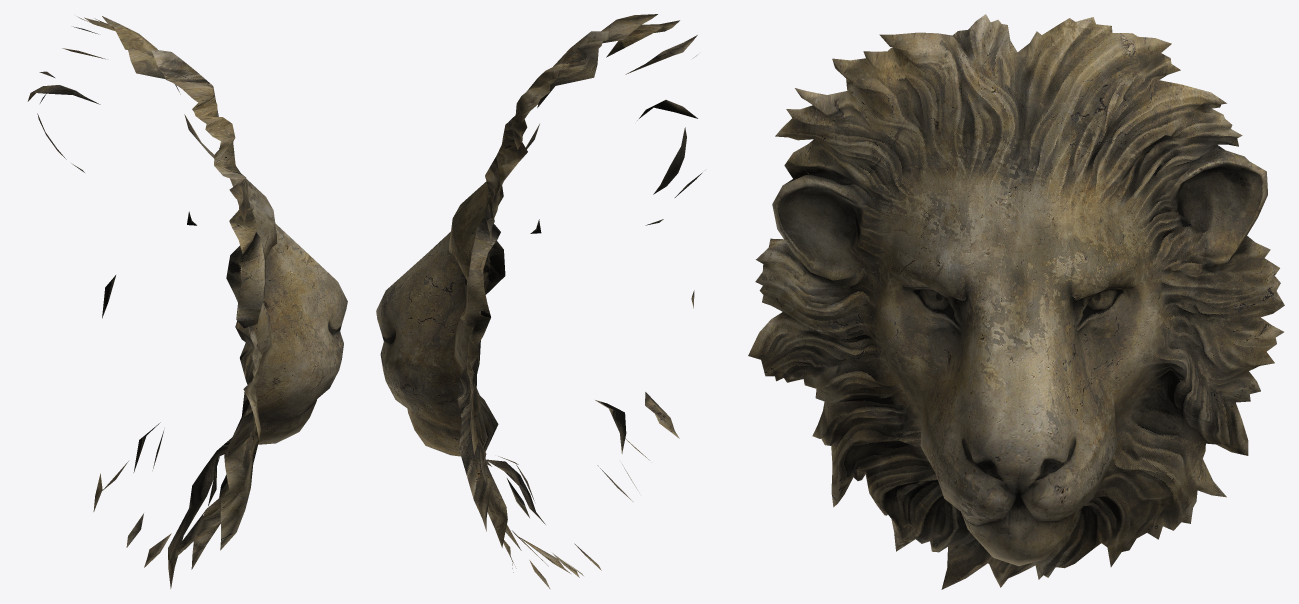
The model's file is Sponza101.gltf.
3 renders of one model, left to right at view 1: azimuth 30°, elevation 25°; view 2: azimuth 150°, elevation 25°; view 3: azimuth 270°, elevation 25°, orthographic. The views are drawn at different scales.
Size of the model in its own units: 0.5998 by 1.48 by 1.25.
Materials: 1 (1 with a texture image).
